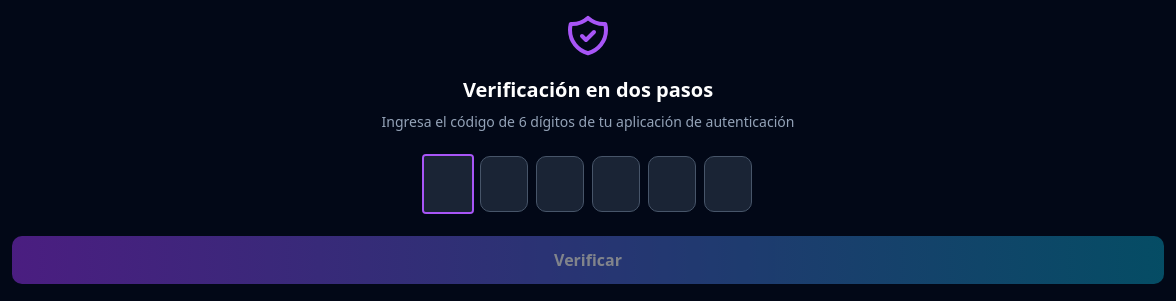
TwoFactorVerify › Verification › should enable verify button when code is complete
Step 1. Type "1" into the field named "Dígito 1 de 6" → (448, 184), box [424, 156, 472, 212]
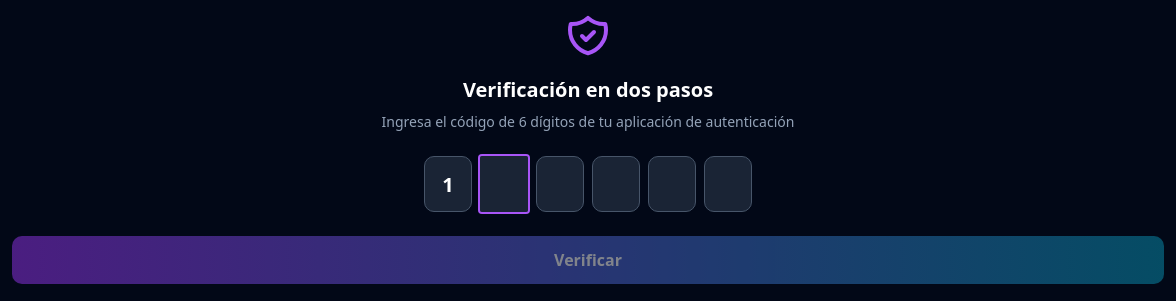
Step 2. Type "2" into the field named "Dígito 2 de 6" → (504, 184), box [480, 156, 528, 212]
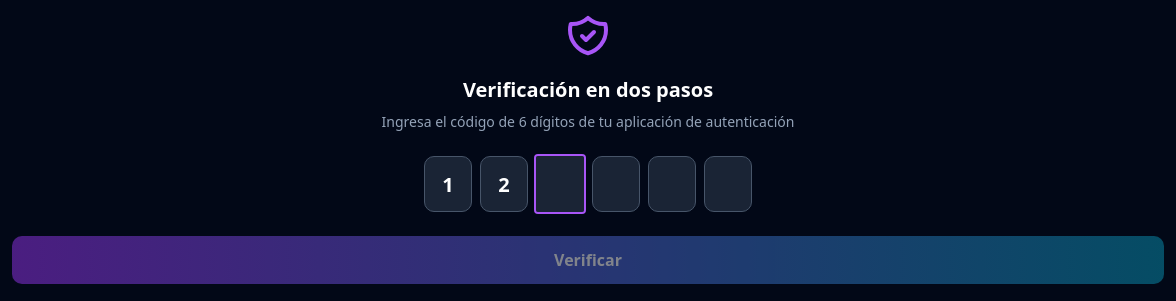
Step 3. Type "3" into the field named "Dígito 3 de 6" → (560, 184), box [536, 156, 584, 212]
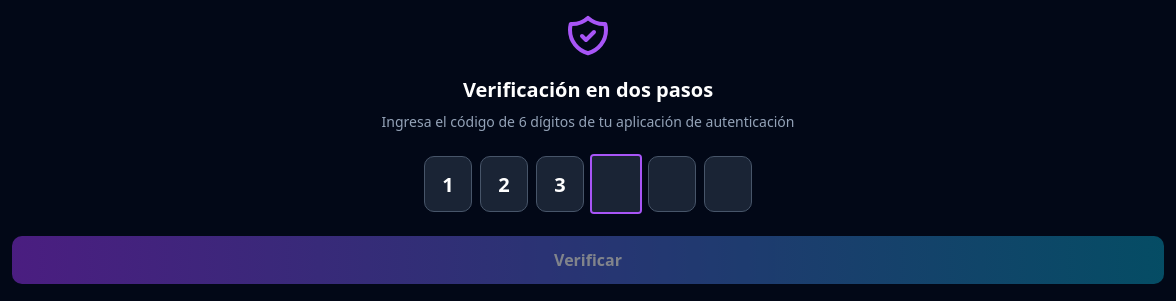
Step 4. Type "4" into the field named "Dígito 4 de 6" → (616, 184), box [592, 156, 640, 212]
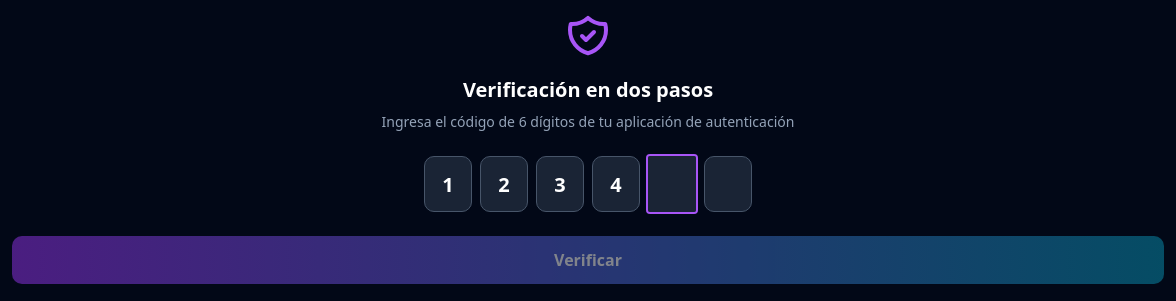
Step 5. Type "5" into the field named "Dígito 5 de 6" → (672, 184), box [648, 156, 696, 212]
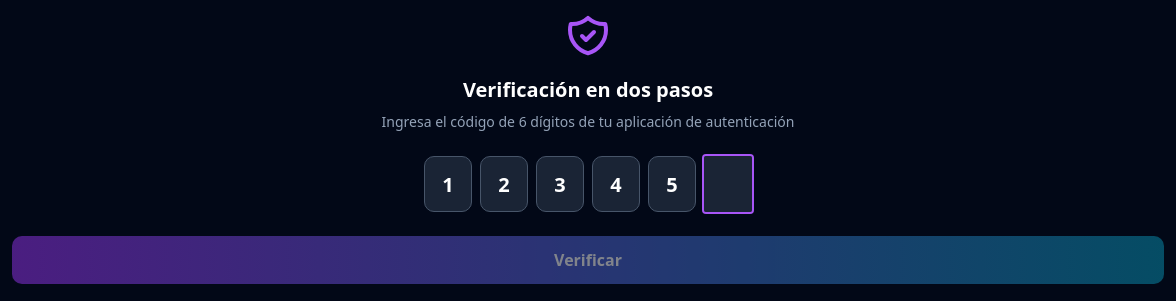
Step 6. Type "6" into the field named "Dígito 6 de 6" → (728, 184), box [704, 156, 752, 212]
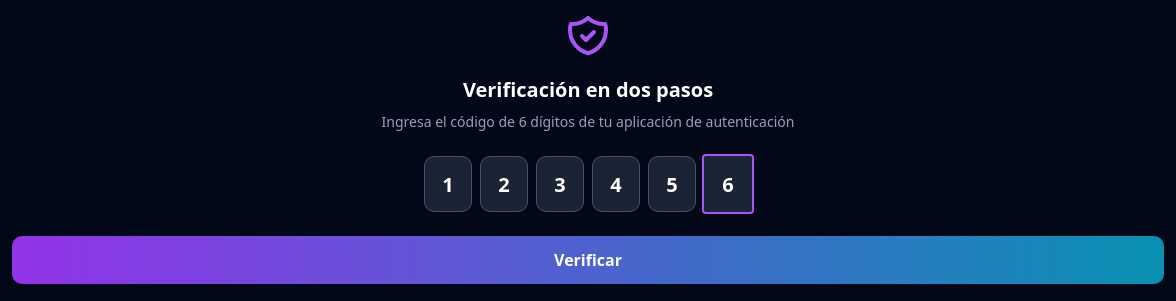
Result: the button "Verificar" is enabled at [12, 236, 1164, 284]
